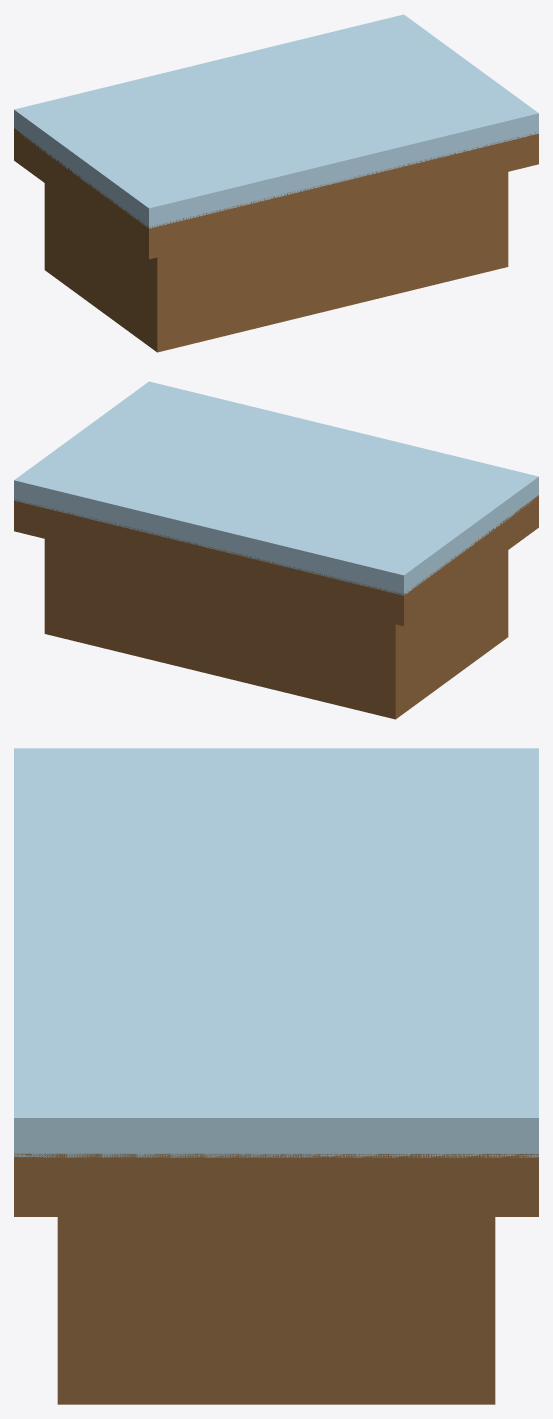
File: patio_coffee_table_wicker.glb
3 views of the same model, one above another, from view 1: azimuth 30°, elevation 25°; view 2: azimuth 150°, elevation 25°; view 3: azimuth 270°, elevation 25° (orthographic). The views are drawn at different scales.
Visible parts, largest first — view 1: coffee_table_wicker; view 2: coffee_table_wicker; view 3: coffee_table_wicker.
Boxes of the visible parts, x1,y1,x2,y2 form: coffee_table_wicker: (14,14,538,352); coffee_table_wicker: (14,381,538,719); coffee_table_wicker: (14,748,538,1404).
Size of the model in its own units: 1 by 0.385 by 0.6.
